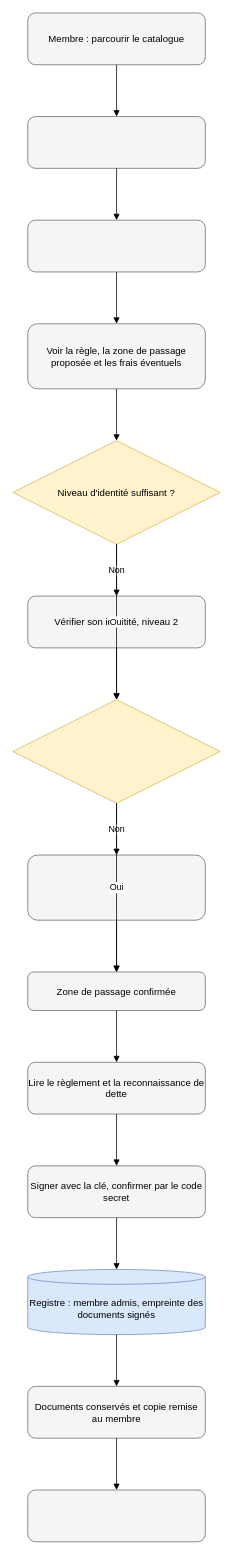
This 233x1555 diagram has some shape labels left out. The shapes that lost their labels are listed below. From the top down, each one's box as (x1, y1, x2, y2) in pixels, then its label:
(27, 116, 205, 168): Filtrer par montant, durée, date de cagnotte
(27, 219, 205, 272): Ouvrir la fiche d'un cercle
(12, 699, 220, 803): Score suffisant pour la zone voulue ?
(27, 854, 205, 920): Proposer une zone accessible, par défaut la fin de cycle
(27, 1489, 205, 1542): Associer un objectif personnel, visible par lui seul
